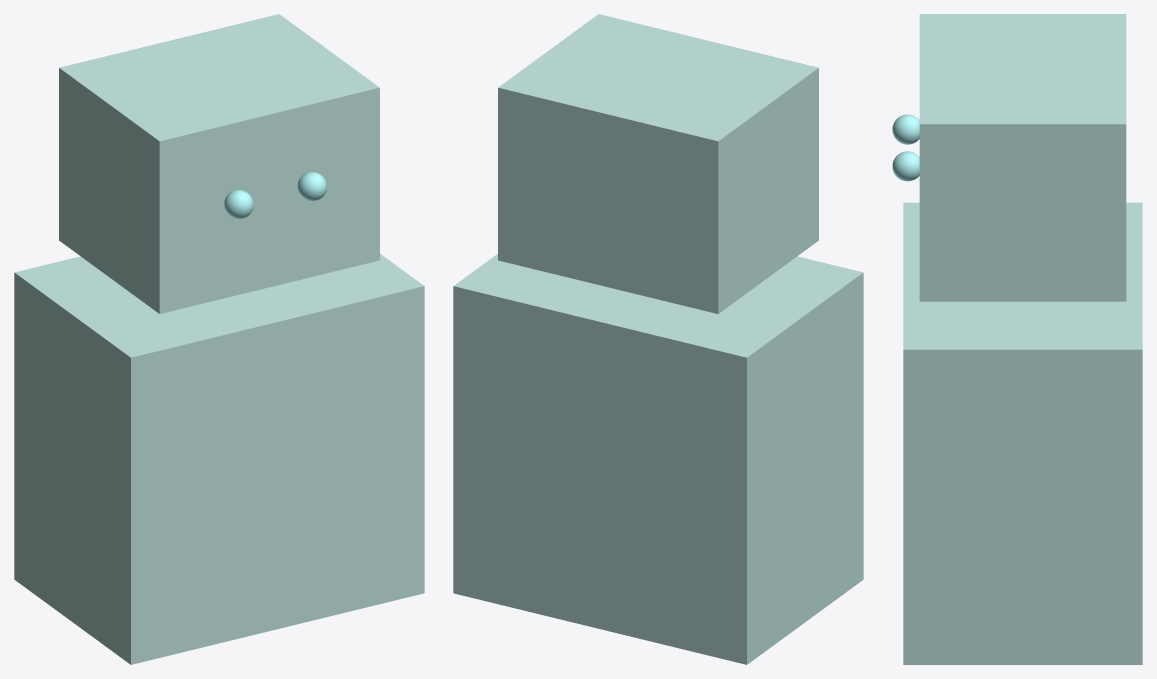
Rendered from robot.glb.
3 views of the same model, side by side, from view 1: azimuth 30°, elevation 25°; view 2: azimuth 150°, elevation 25°; view 3: azimuth 270°, elevation 25° (orthographic). The views are drawn at different scales.
Parts seen in each view (by area): view 1: robot; view 2: robot; view 3: robot.
Boxes of the visible parts, x1,y1,x2,y2 form: robot: (14, 14, 424, 664); robot: (453, 14, 863, 664); robot: (892, 14, 1142, 664).
Bounding box in the file's own units: 1.6 × 2.65 × 1.15.
